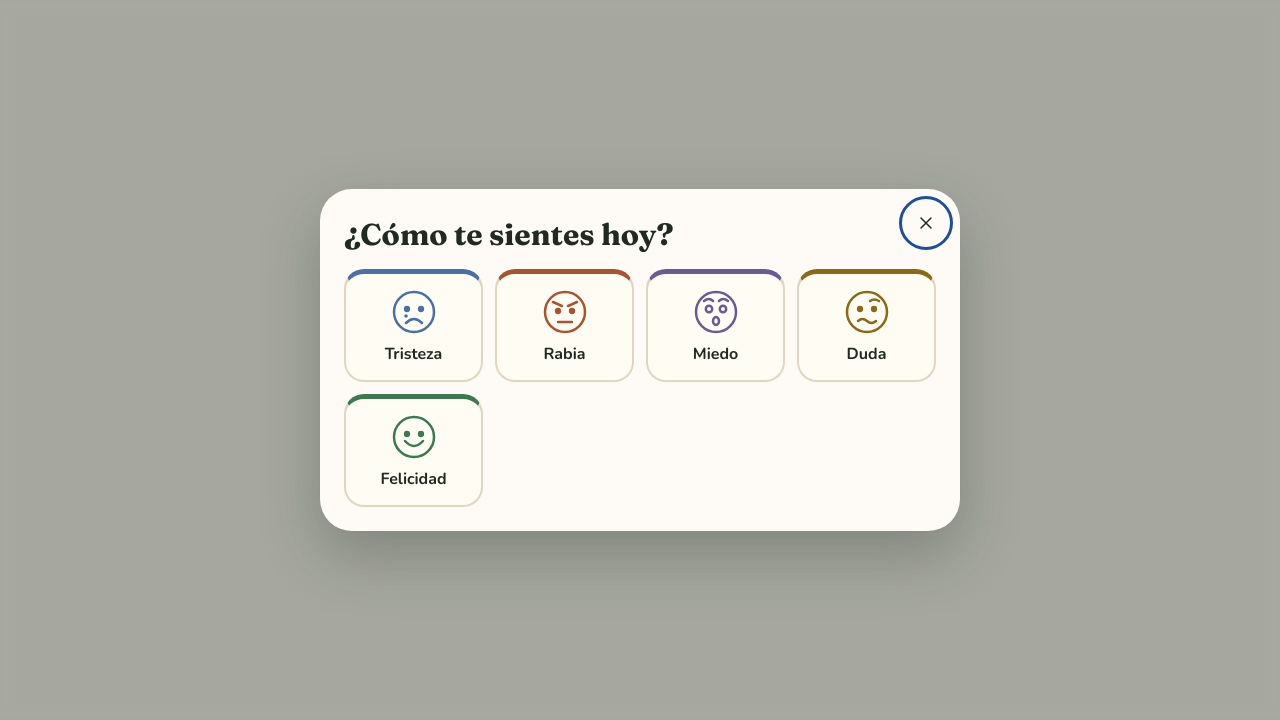
Test: FlujoDesahogo › HU-06: el mensaje de apoyo › un mensaje de crisis se muestra completo y no se cierra solo
Step 1. Click the button "Tristeza" → (414, 326), box [344, 269, 483, 382]
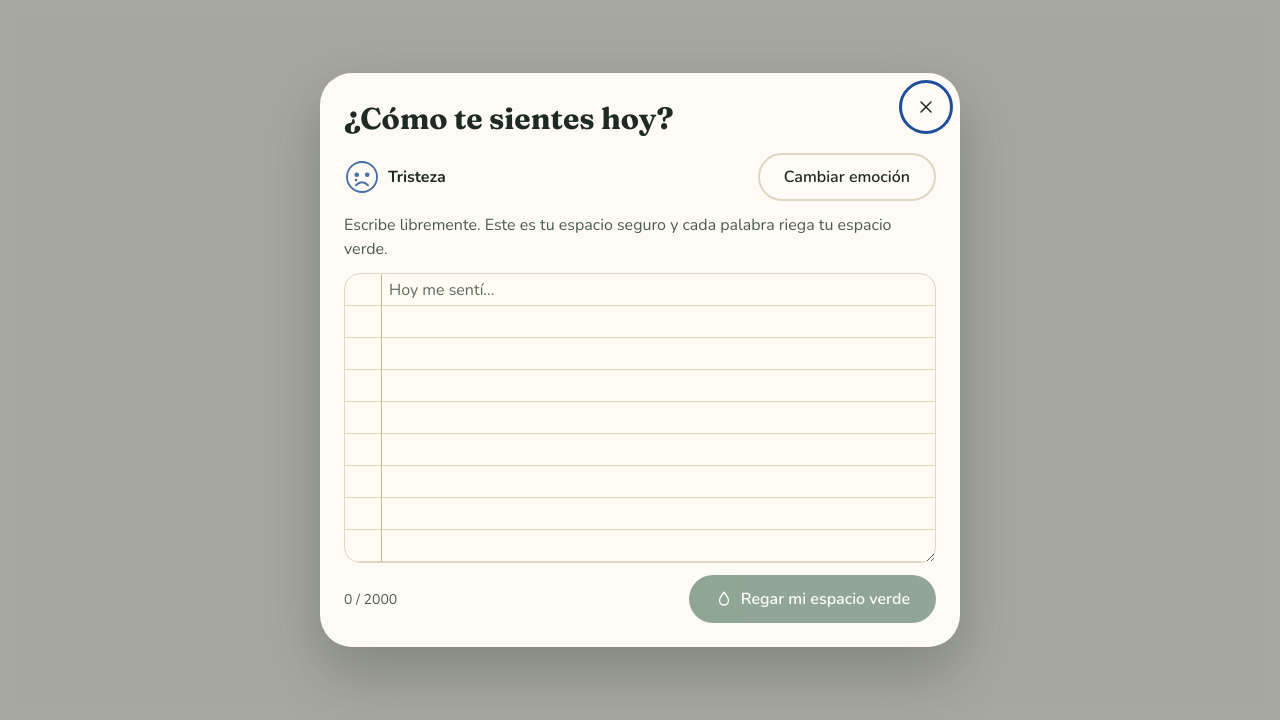
Step 2. Type "me siento muy mal" into the text box named "Escribe lo que sientes" → (640, 418), box [344, 273, 936, 563]
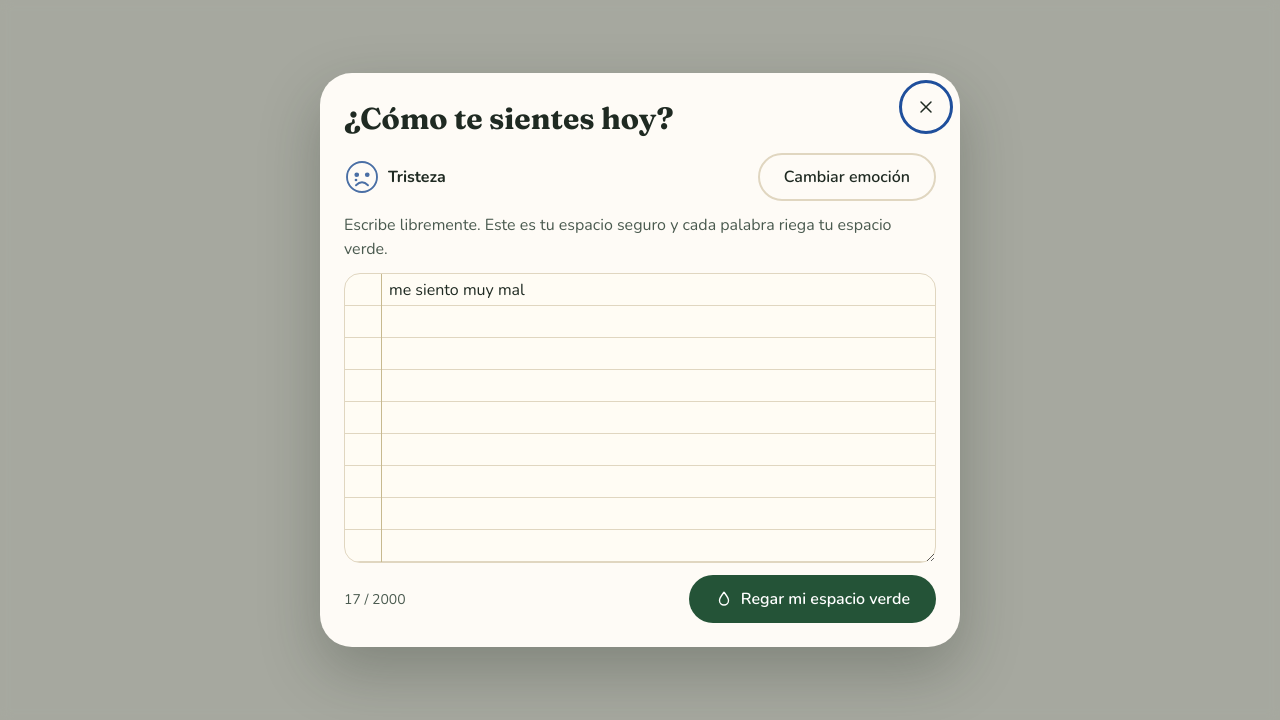
Step 3. Click the button "Regar mi espacio verde" → (812, 599), box [689, 575, 936, 623]
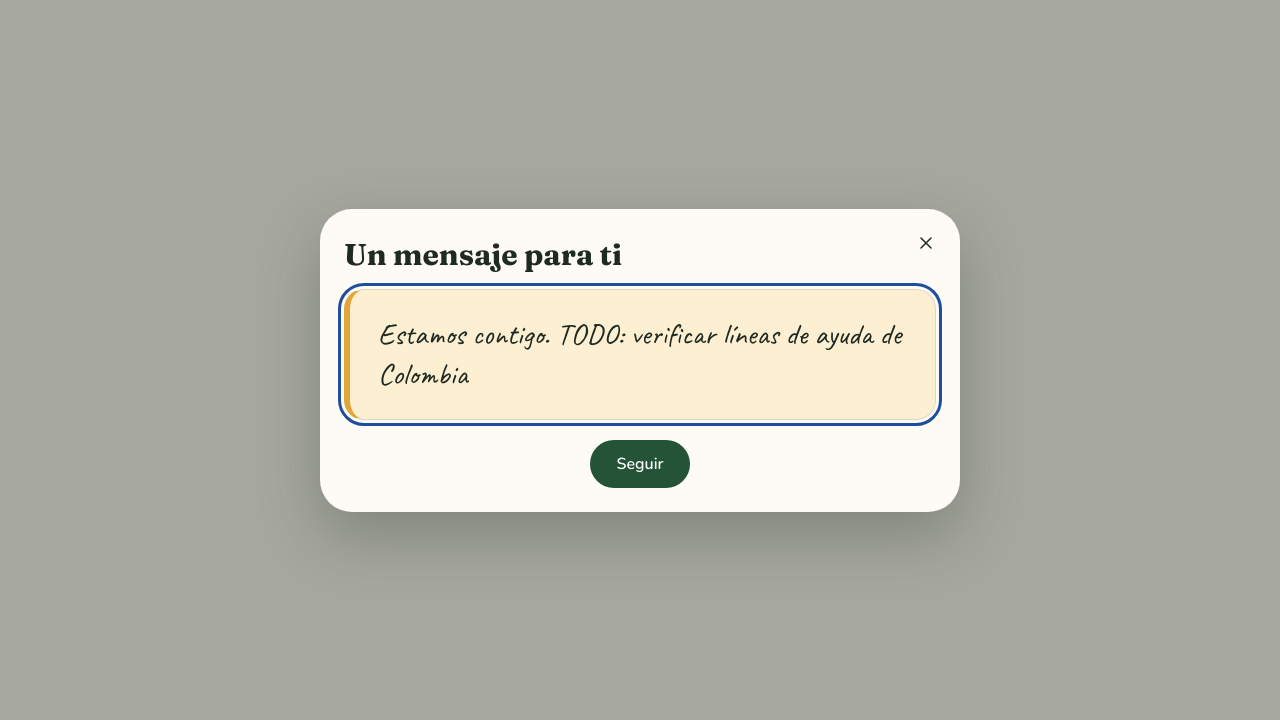
Expected: the text "Estamos contigo. TODO: verificar líneas de ayuda de Colombia" is shown, [378, 314, 911, 394]
Expected: the dialog "Un mensaje para ti" is shown, [320, 208, 960, 512]
